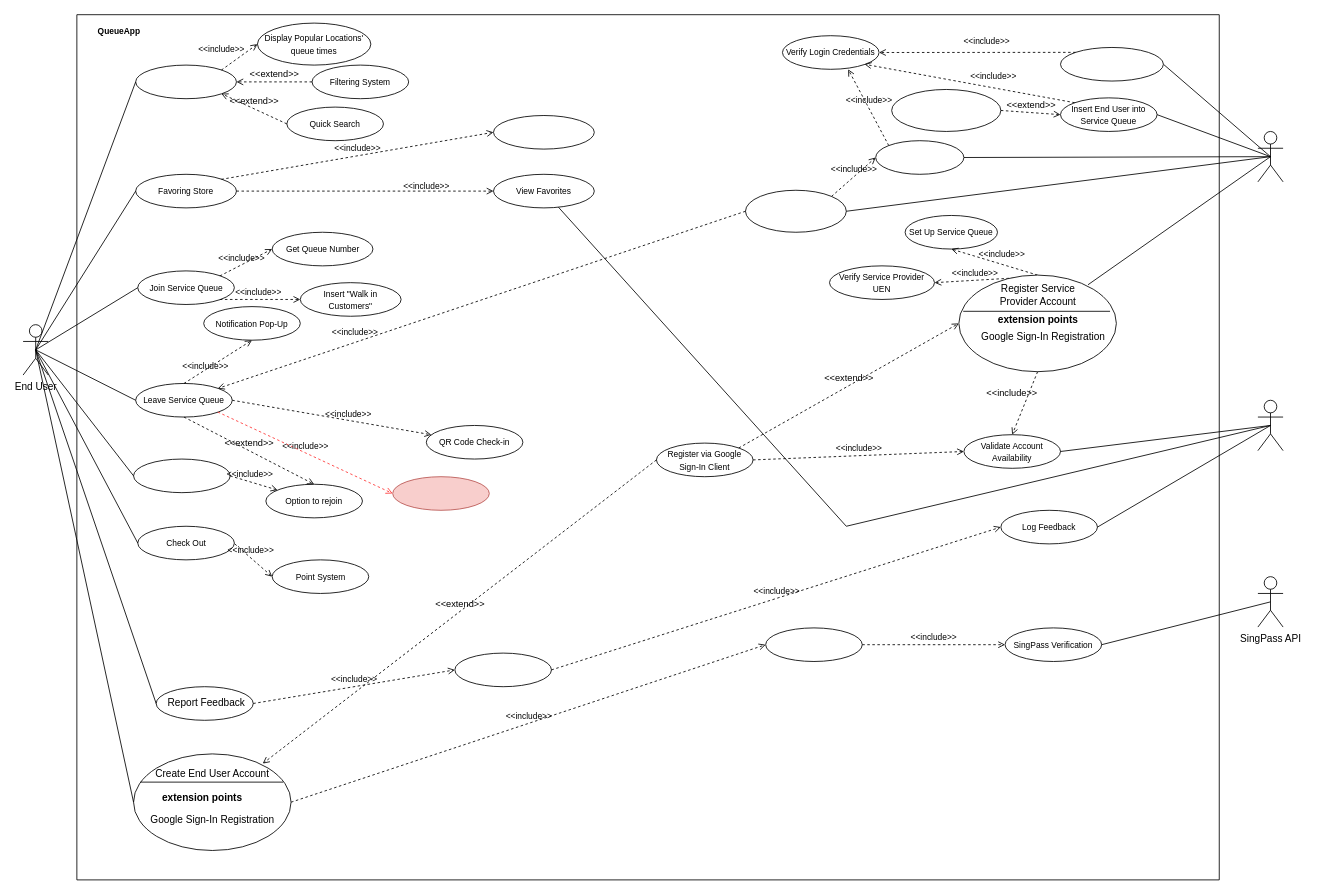
Image size: 1321x895. Some labels were removed from this diagram. Here are the shapes that lost their labels. From the top down, the centre of each, then its label:
At point 185,81: "View Service Queue".
At point 1111,64: "Remove End User from Service Queue".
At point 946,110: "Insert Physical User into Service Queue".
At point 543,132: "Add To Favorites".
At point 919,157: "View Own Service Queue".
At point 1270,156: "Service Provider".
At point 795,210: "Notify End User of Availability".
At point 1270,425: "Cloud Database".
At point 181,475: "Missed Queue".
At point 440,493: "Hidden Countdown Timer".
At point 813,644: "Enter Account Details".
At point 502,669: "Enter Feedback".
